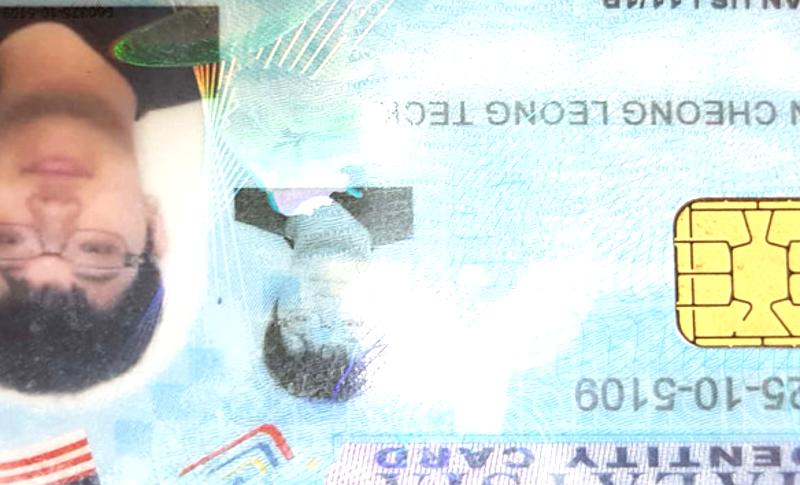hologramB: (221, 4, 388, 184)
